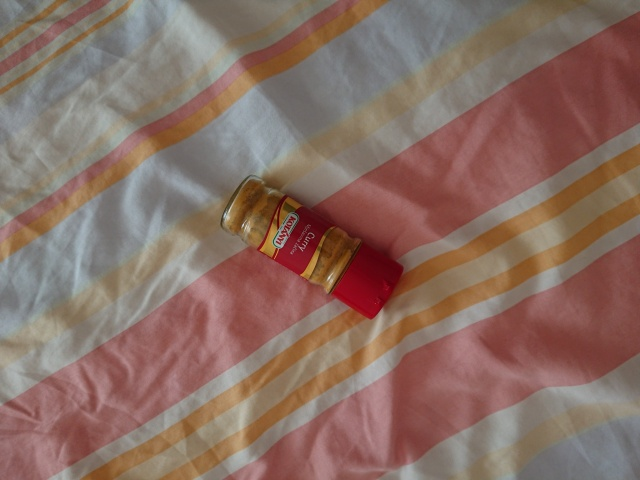Kotanyi Curry Spices Mix 70g: (217, 173, 406, 322)
